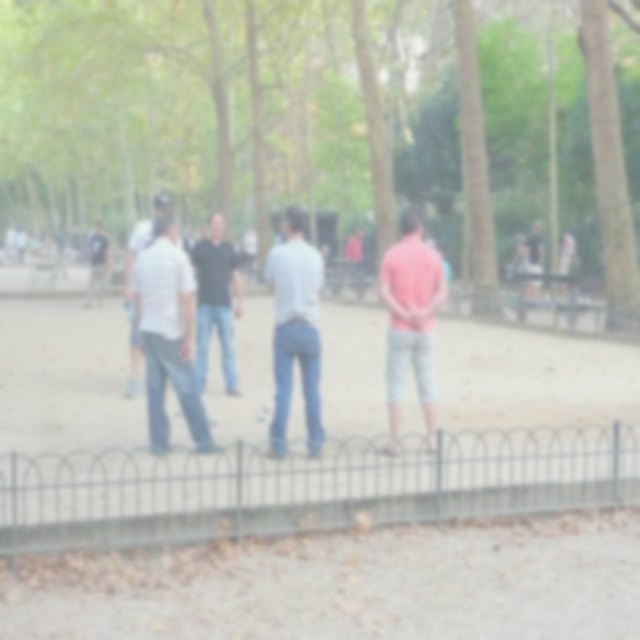pessoa: (129, 210, 225, 458), (368, 200, 454, 460), (257, 197, 330, 464), (122, 193, 184, 400), (188, 209, 246, 400), (30, 222, 111, 266), (81, 218, 114, 310), (520, 217, 546, 300), (424, 229, 454, 295), (556, 224, 582, 294), (232, 225, 260, 284), (508, 234, 530, 298), (49, 220, 70, 280), (178, 220, 207, 255), (344, 227, 362, 280), (348, 227, 363, 284), (318, 241, 334, 287), (12, 226, 29, 266), (6, 222, 17, 262), (271, 230, 283, 248)
